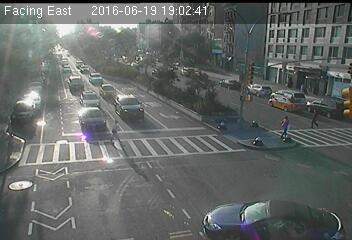neg: (258, 181, 277, 205), (90, 183, 108, 207), (283, 51, 300, 73), (138, 91, 154, 112), (156, 181, 172, 202), (51, 152, 67, 173), (248, 67, 263, 88), (207, 68, 222, 88), (87, 43, 102, 63), (18, 179, 33, 199), (221, 173, 236, 193), (212, 115, 227, 134), (94, 136, 108, 156), (172, 70, 186, 89), (145, 41, 159, 60), (294, 198, 308, 217), (81, 110, 94, 128), (249, 135, 261, 152), (31, 113, 43, 129)
pos: (105, 117, 127, 145), (308, 107, 325, 130), (278, 115, 295, 137)
